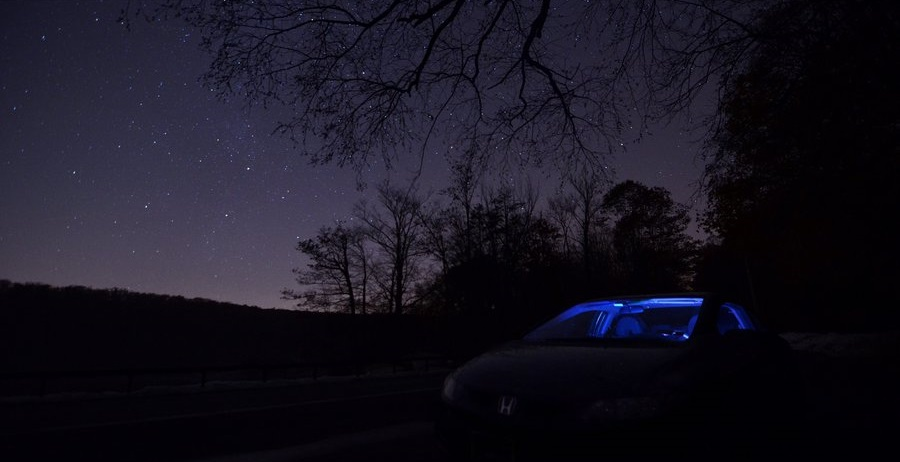car: (437, 288, 795, 438)
